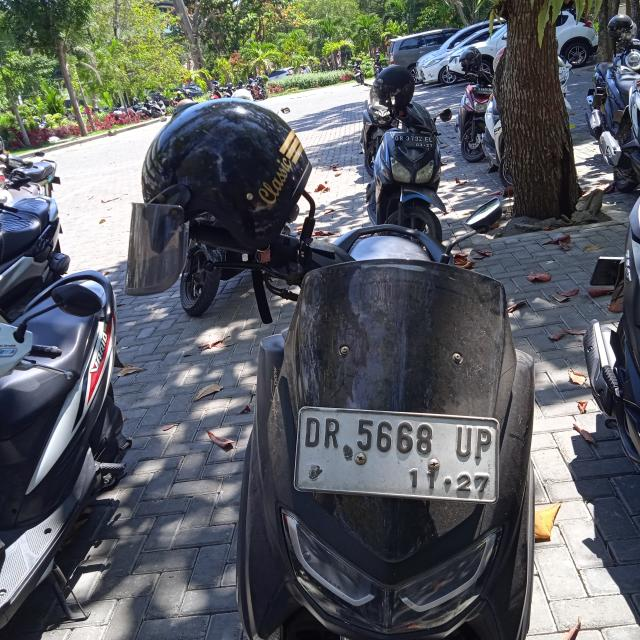plate: (290, 406, 500, 508), (394, 135, 436, 149)
